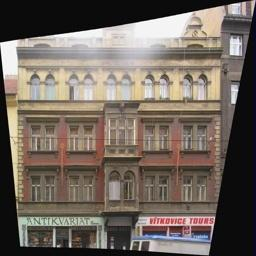building: (17, 7, 222, 244)
